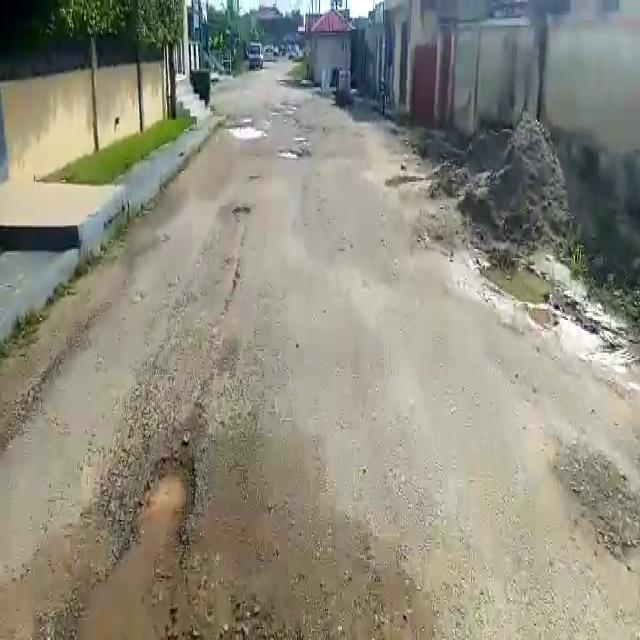pothole: (126, 455, 199, 546), (221, 123, 268, 143), (277, 148, 305, 164)
